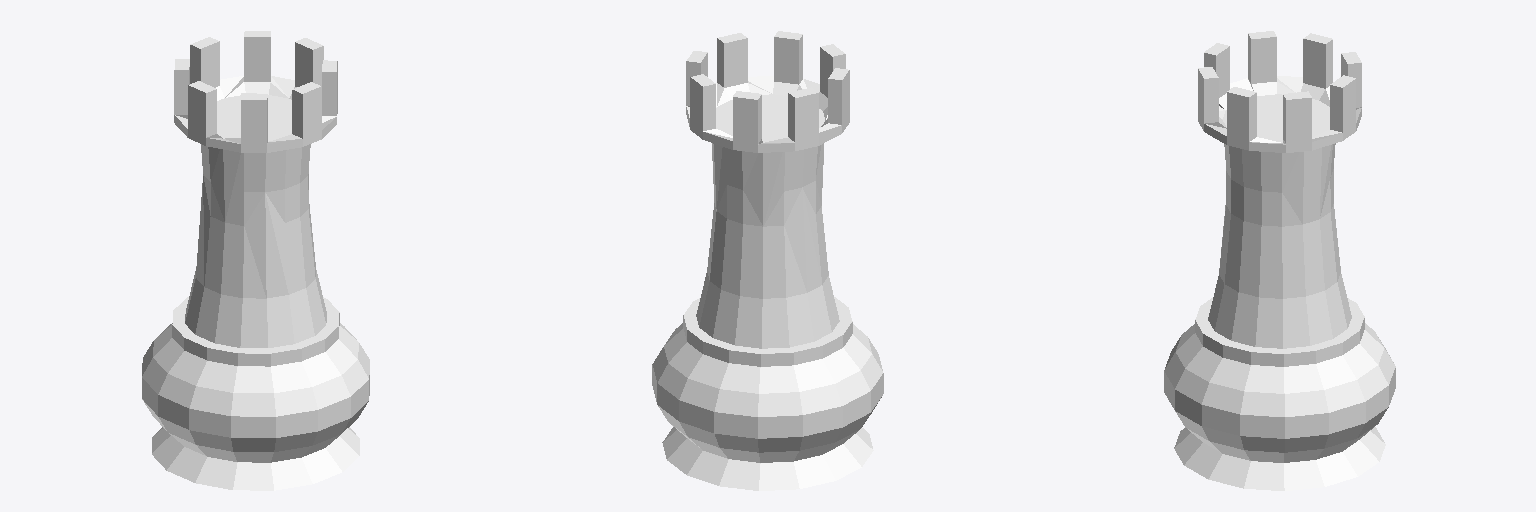
3 renders of one model, left to right at view 1: azimuth 30°, elevation 25°; view 2: azimuth 150°, elevation 25°; view 3: azimuth 270°, elevation 25°, orthographic.
Parts seen in each view (by area): view 1: Rook.003; view 2: Rook.003; view 3: Rook.003.
Part boxes in pixels (bbox=[...]): Rook.003: bbox=[142, 31, 369, 490]; Rook.003: bbox=[652, 31, 883, 490]; Rook.003: bbox=[1164, 31, 1395, 490].
Bounding box in the file's own units: 0.4815 × 0.8737 × 0.4815.
1 materials, 1 textured.